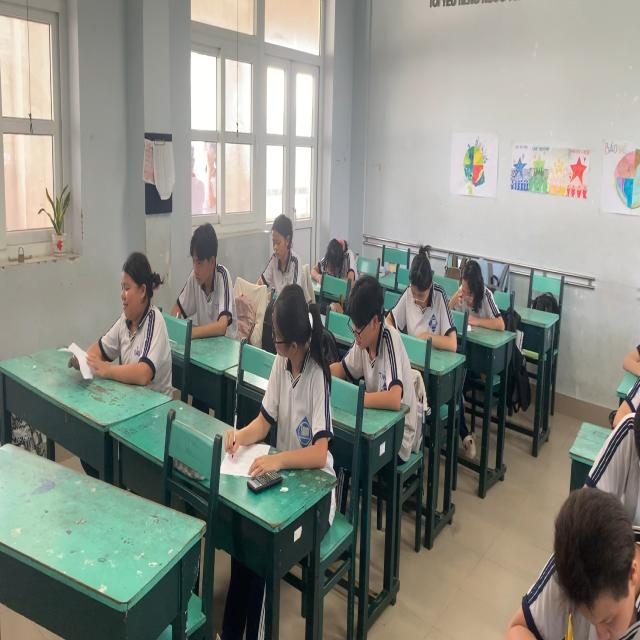cheating: (255, 278, 336, 482)
not_cheating: (99, 244, 163, 382), (346, 272, 410, 392), (181, 219, 227, 330), (397, 244, 447, 334), (452, 254, 492, 327), (262, 210, 297, 274), (316, 237, 348, 279)
